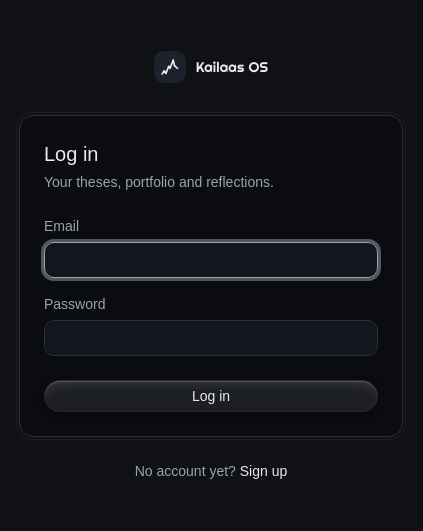
Test: the login form › cannot be double-submitted while a request is in flight
Type "ada@example.com" into the field labelled "Email" at x=211, y=260, box [44,242,378,278]
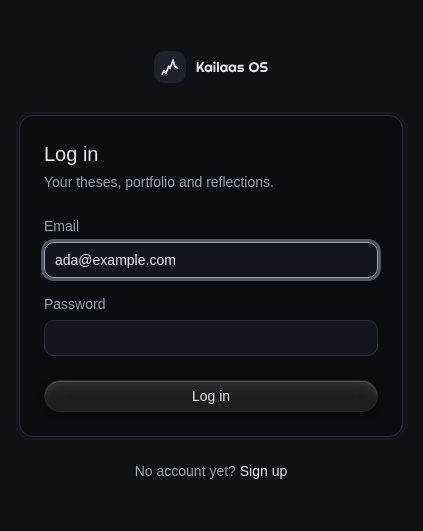
Type "a-real-password" into the password field labelled "Password" at x=211, y=338, box [44,320,378,356]
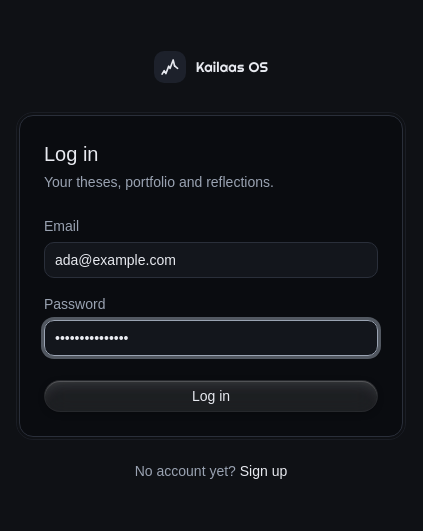
Click the button "Log in" at x=211, y=396, box [44,380,378,412]
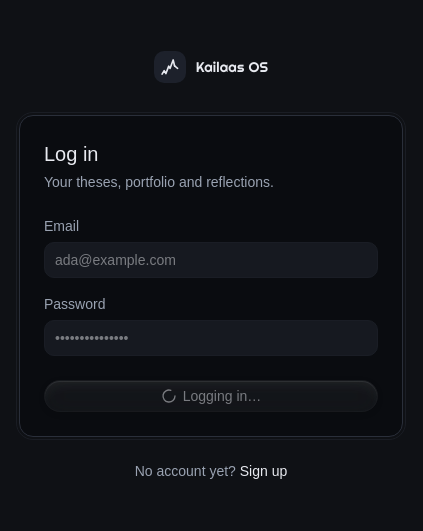
Result: the button "Logging in…" is disabled
Note: Disabled while pending, so a second click does nothing.
Click the button "Logging in…" at x=211, y=396, box [44,380,378,412]
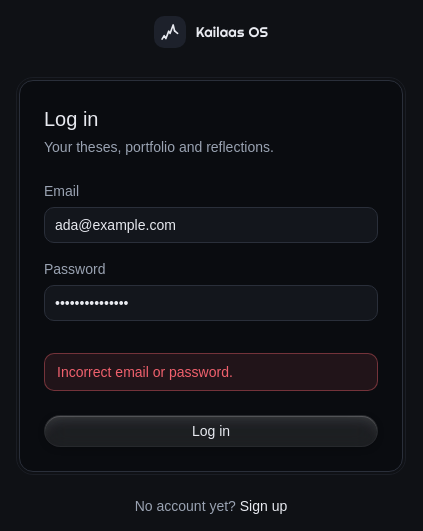
Result: the message "Incorrect email or password." is shown at [44,353,378,391]
